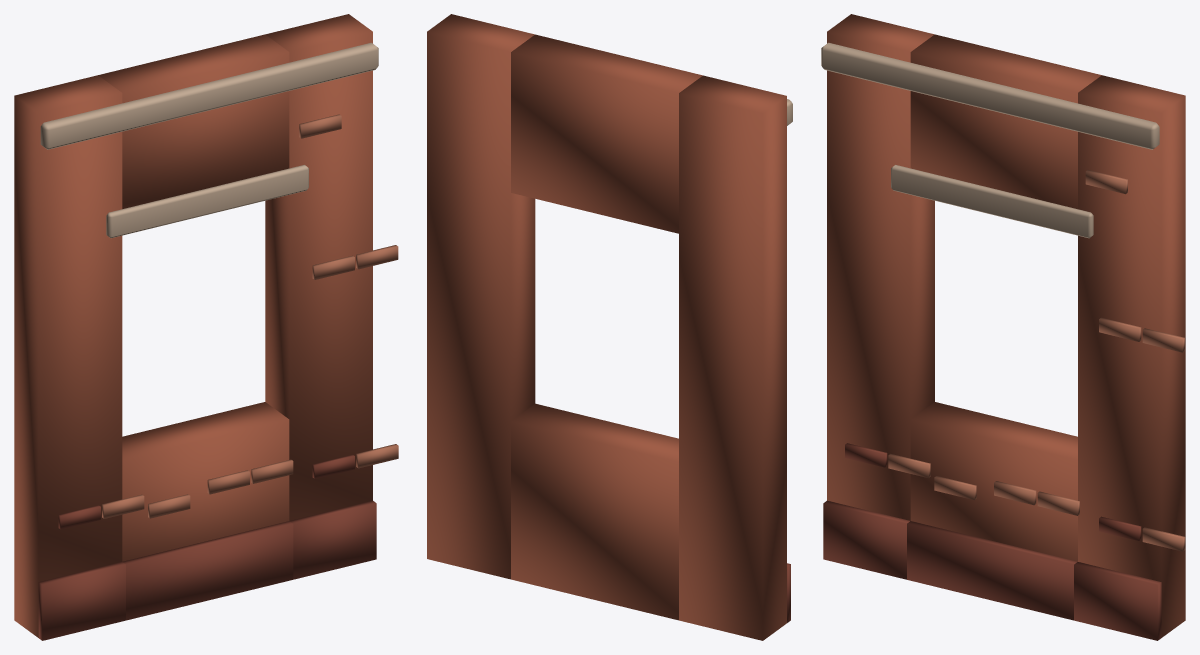
The model's file is wall_2m_window.glb.
3 renders of one model, left to right at view 1: azimuth 30°, elevation 25°; view 2: azimuth 150°, elevation 25°; view 3: azimuth 330°, elevation 25°, orthographic.
Visible parts, largest first — view 1: wall_2m_window; view 2: wall_2m_window; view 3: wall_2m_window.
Boxes of the visible parts, x1,y1,x2,y2 form: wall_2m_window: (14, 14, 398, 640); wall_2m_window: (427, 14, 792, 640); wall_2m_window: (821, 14, 1185, 640).
Bounding box in the file's own units: 2.14 × 3 × 0.33.
